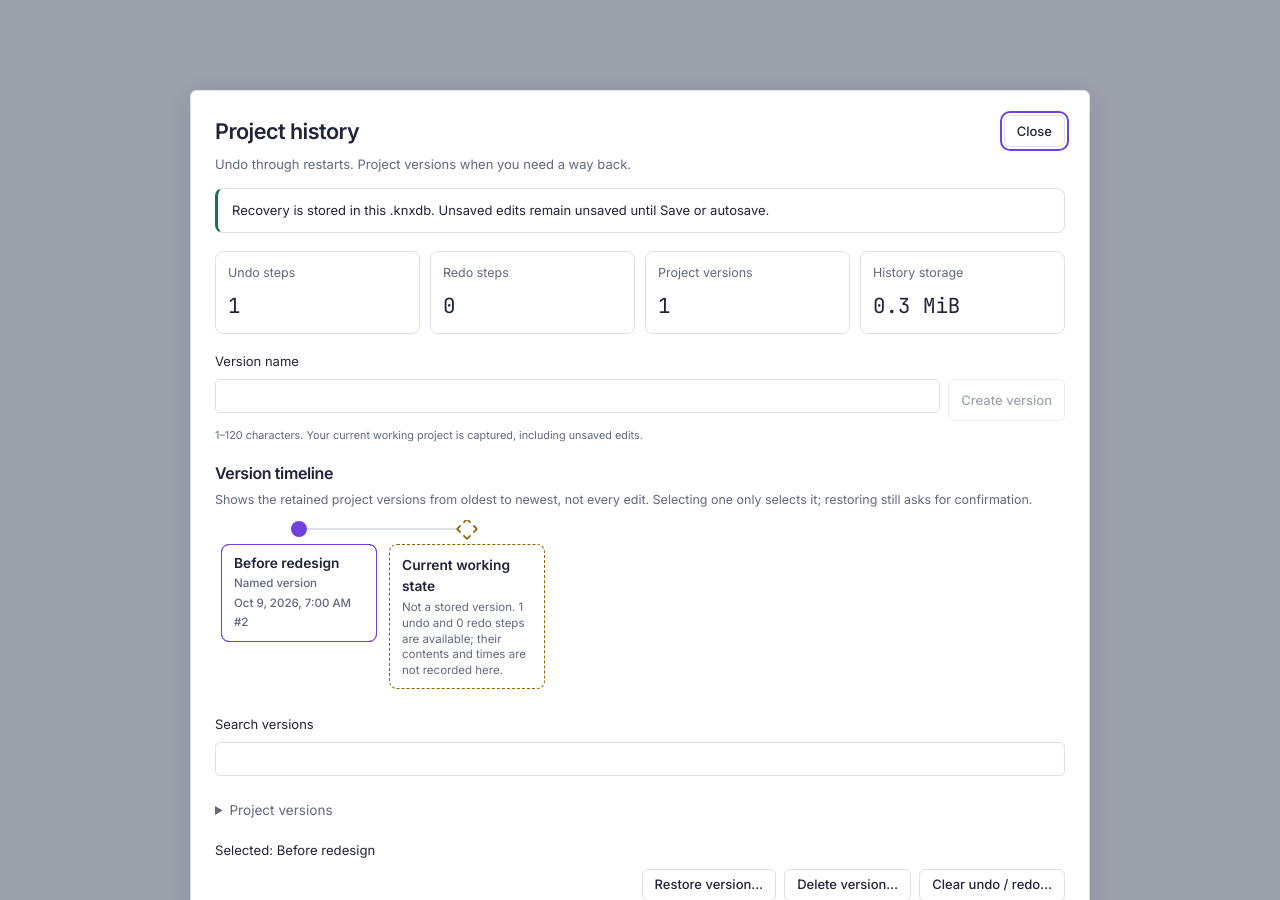
Test: ProjectHistoryDialog › does not publish success or close after a refused restore
This screenshot has width=1280, height=900.
Step 1. Click the button "Restore version…" → (709, 884), box [642,868,776,899]
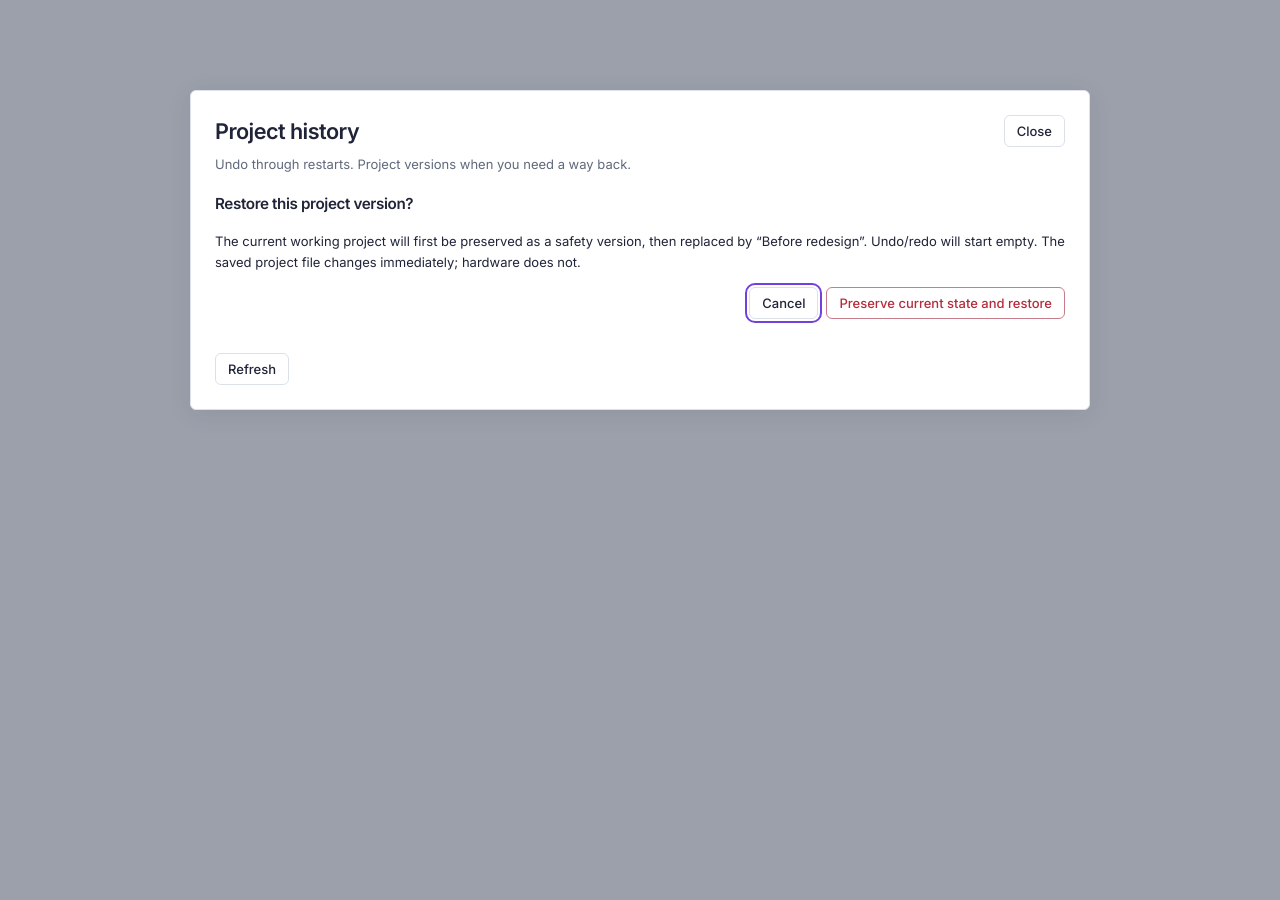
expect the button "Preserve current state and restore" is shown: met
Step 2. Click the button "Preserve current state and restore" → (946, 303), box [826,287,1065,319]
(page scrolled)
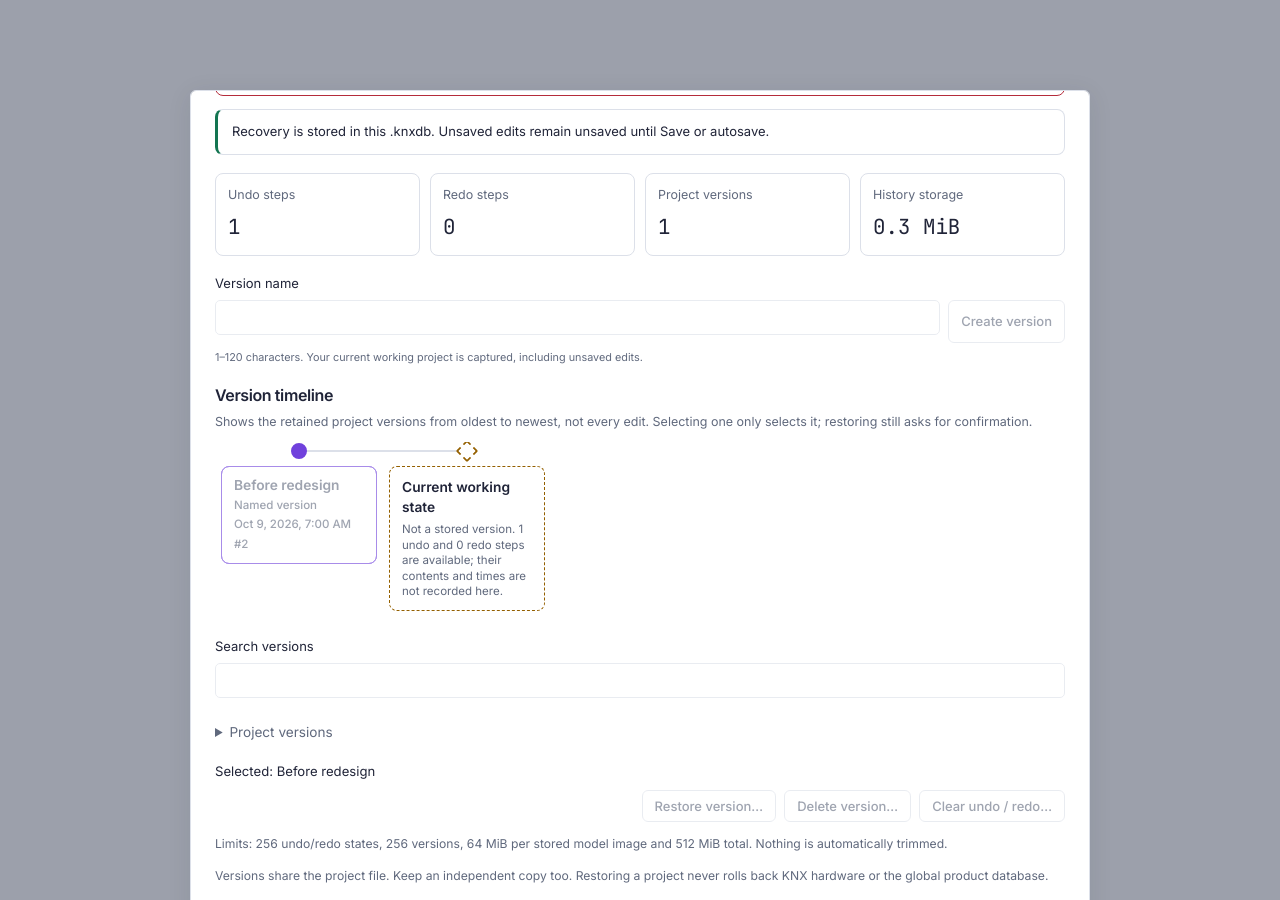
expect the button "Restore version…" is disabled: met, box [642,790,776,822]
